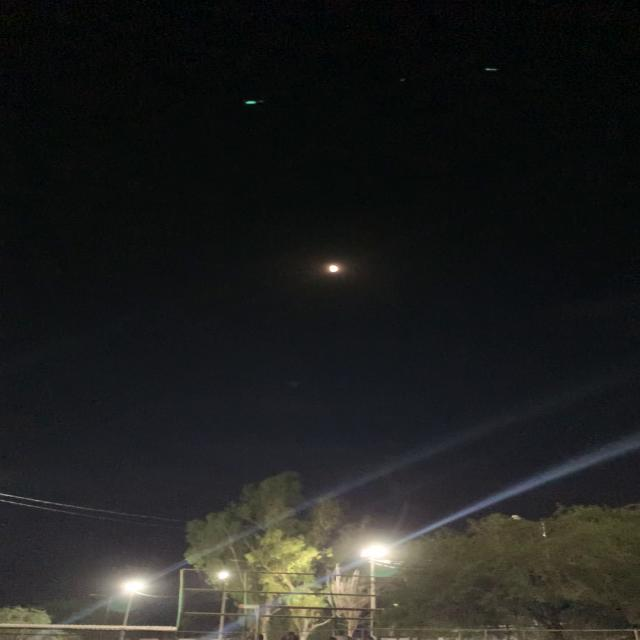moon: (319, 255, 352, 286)
